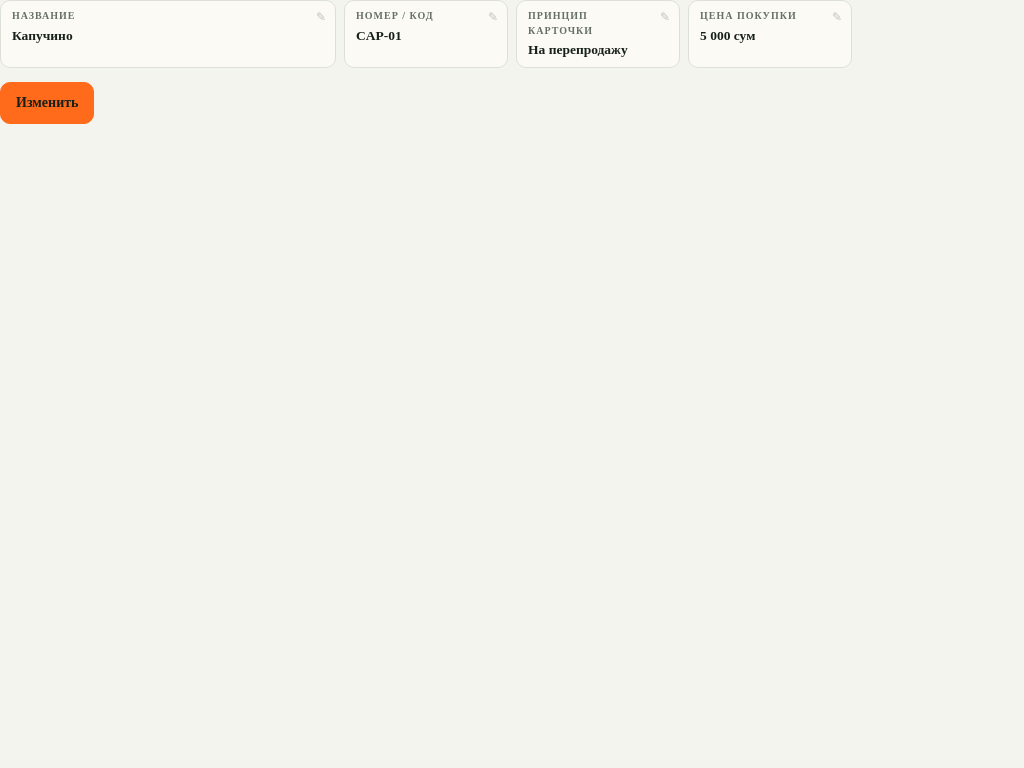
формы реестра › не теряет правки карточки при ошибке сохранения
Click the button "Изменить".
click(47, 102)  # box [0, 82, 94, 124]
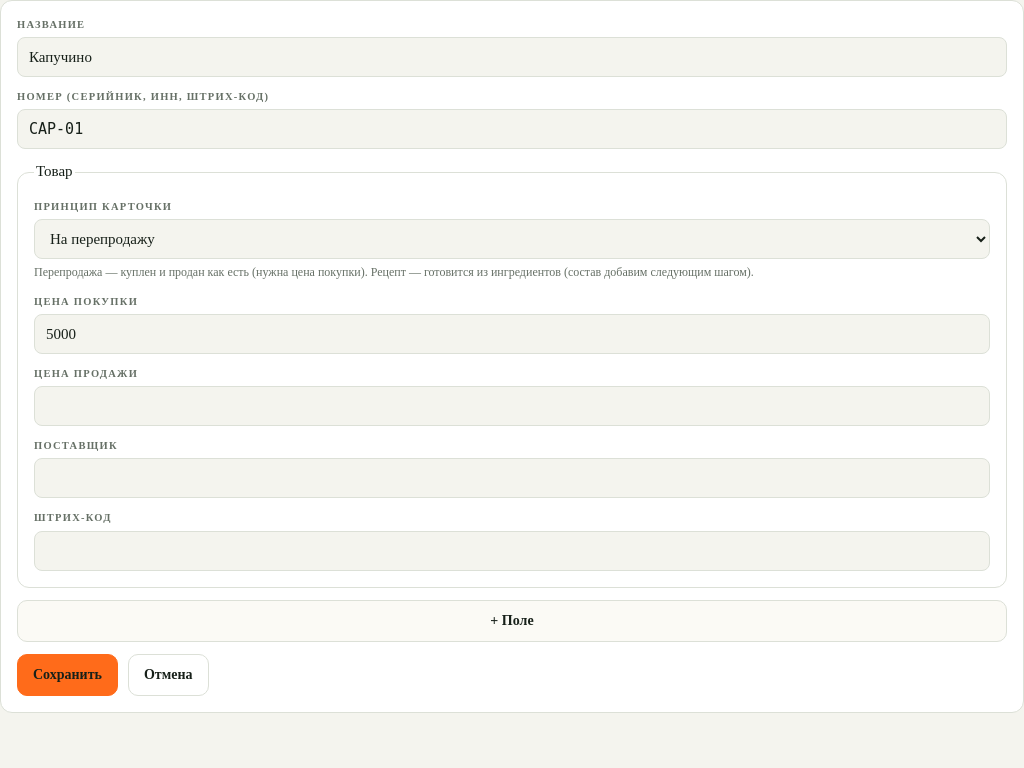
Replace the text in the field labelled "Название" with "Капучино XL" at (512, 57), box [17, 37, 1007, 77]
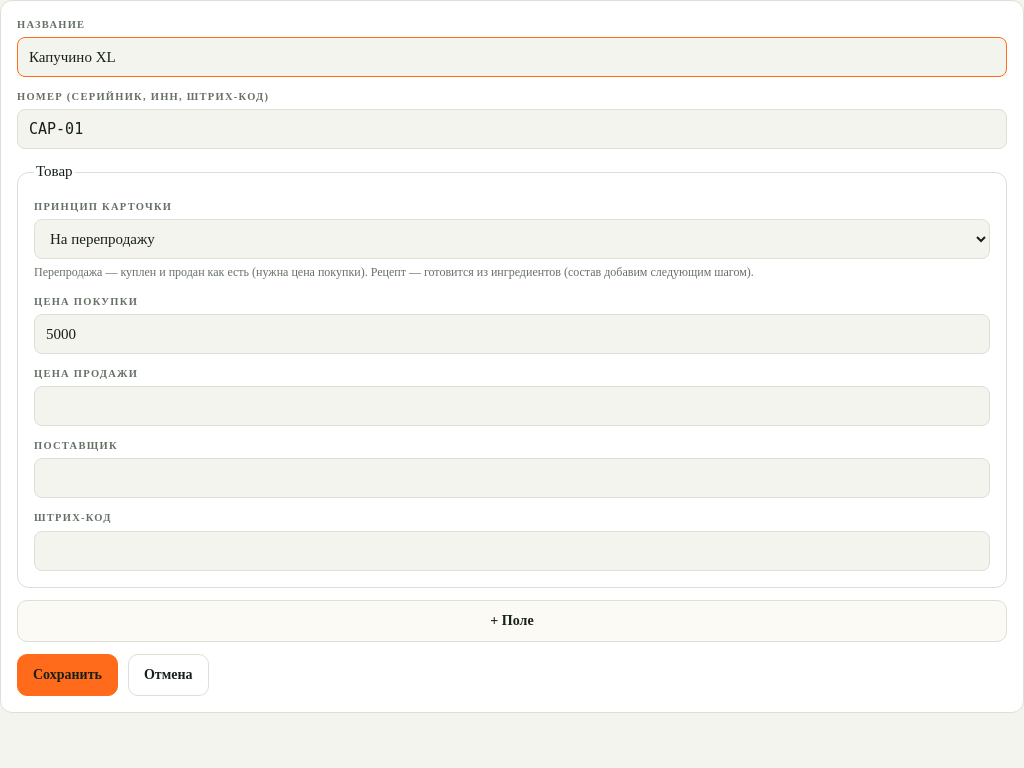
Click the button "Сохранить".
click(68, 675)  # box [17, 654, 118, 696]
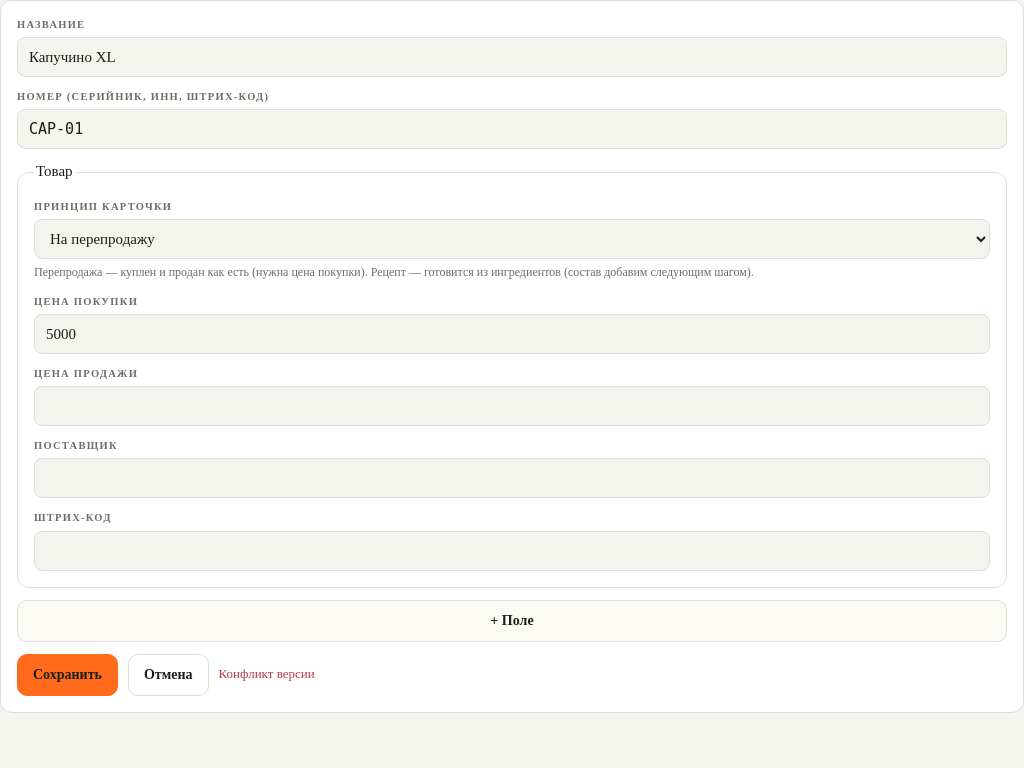
Now the text "Конфликт версии" is shown, box [219, 665, 315, 684]
